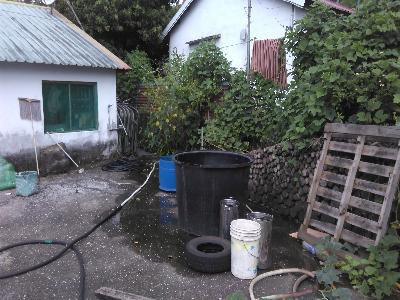bucket: (174, 150, 250, 236), (228, 217, 262, 281), (217, 197, 241, 240), (14, 170, 40, 197), (158, 155, 176, 192)
tire: (182, 235, 232, 274)
